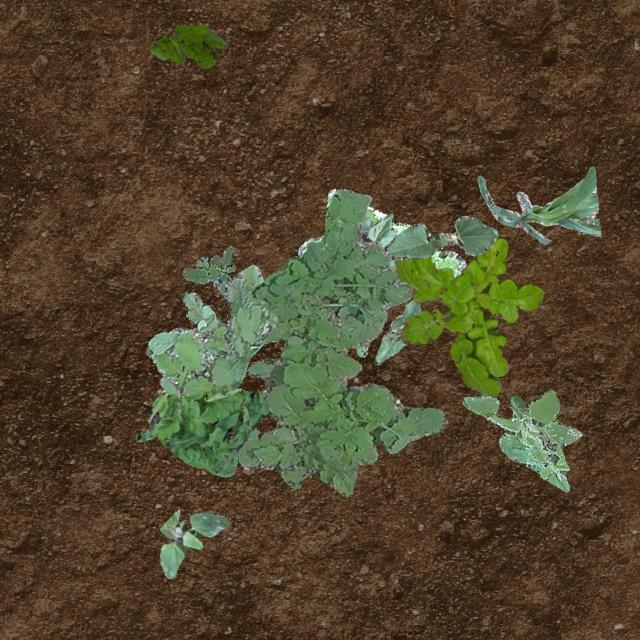crop: (476, 166, 600, 243), (383, 214, 498, 258), (374, 298, 419, 364), (359, 212, 396, 250)
weed: (146, 188, 466, 398), (236, 188, 446, 496), (393, 236, 542, 396), (462, 388, 580, 491), (134, 388, 266, 476), (158, 508, 230, 578), (148, 22, 226, 68), (182, 244, 234, 300)
